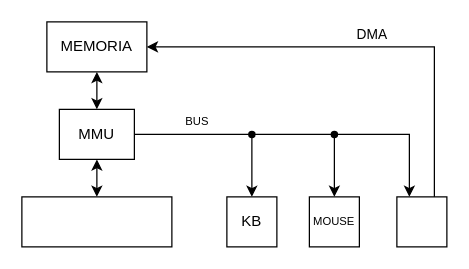
The diagram is 469 pixels wide and 269 high, and some of its shapes have lost their labels. The shapes that lost their labels are listed below. From the top down, each one's centre as x and y in pixels, then its label:
At point 96,221: "PROCESSORE".
At point 421,221: "DISCO".
